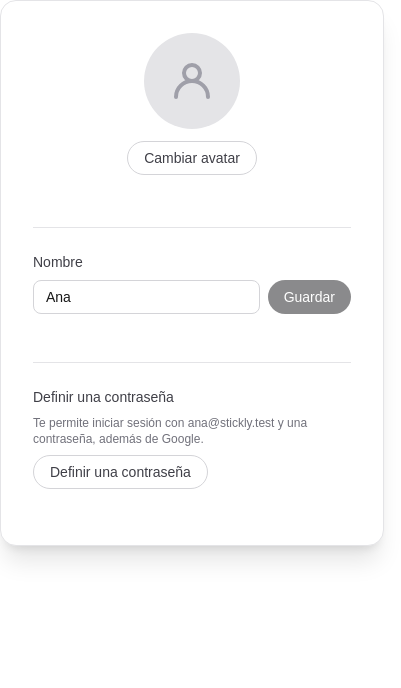
Test case: ProfileForm › offers to set a first password without asking for a current one
This screenshot has width=401, height=688.
What coordinates should you click on to do the following:
click the button "Definir una contraseña"
I would click on:
 (120, 472)
Its box is x1=33 y1=455 x2=208 y2=489.
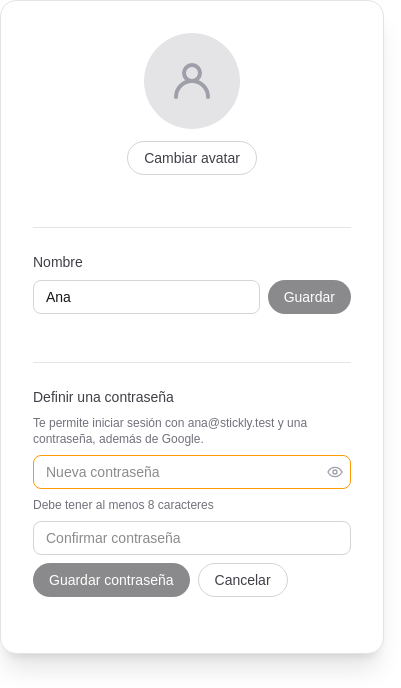
Result: the password field labelled "Nueva contraseña" is shown at x1=33 y1=455 x2=351 y2=489
